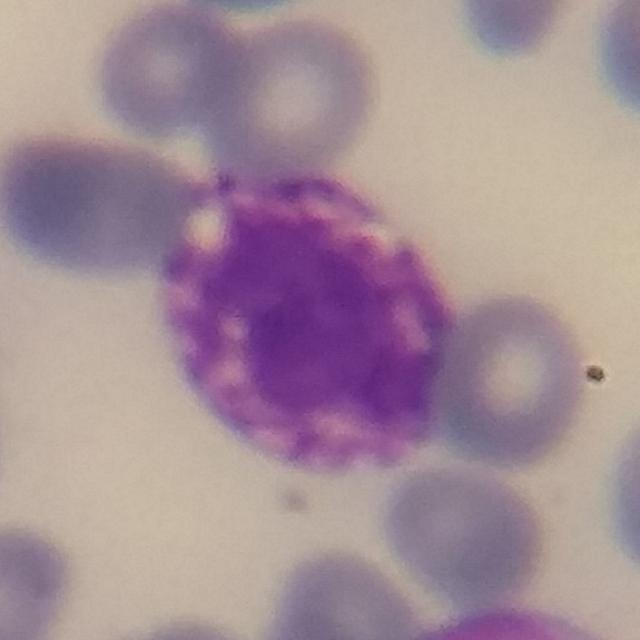Basophil: (148, 188, 449, 497)
Platelets: (581, 361, 611, 388)
RBC: (206, 5, 388, 182), (430, 285, 596, 474), (0, 122, 186, 286), (375, 458, 554, 606), (82, 4, 245, 148), (255, 542, 431, 640), (0, 515, 85, 640), (443, 0, 593, 67), (406, 597, 605, 640), (597, 395, 640, 586), (586, 0, 640, 127), (99, 611, 268, 640)
